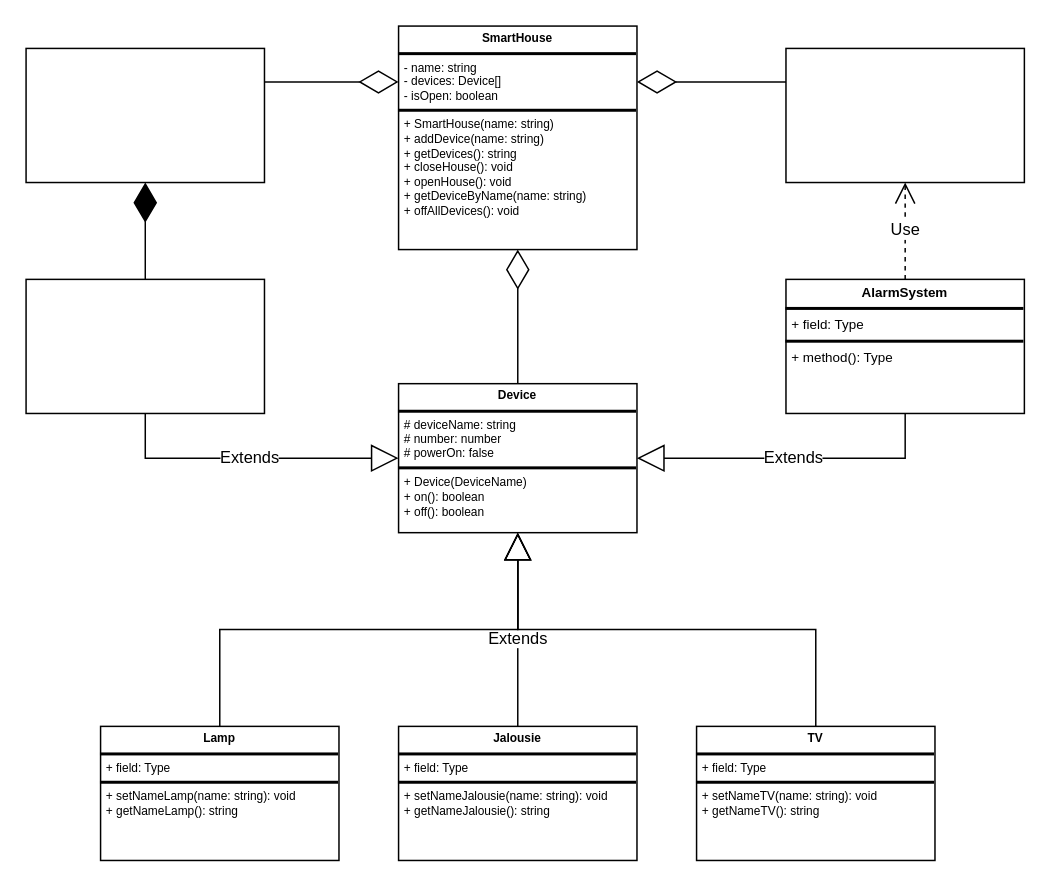
Some shapes in this 1050 by 887 pixel diagram are drawn without their labels. The shapes that lost their labels are listed below. From the top down, each one's box as (x1, y1, x2, y2) in pixels, then its label:
(25, 47, 264, 183): Garage + field: Type + method(): Type
(784, 47, 1024, 183): ControlSystem + company: string + method(): Type
(25, 278, 264, 413): RollerGarageDoor + isOpen: boolean + open(): void + close(): void
